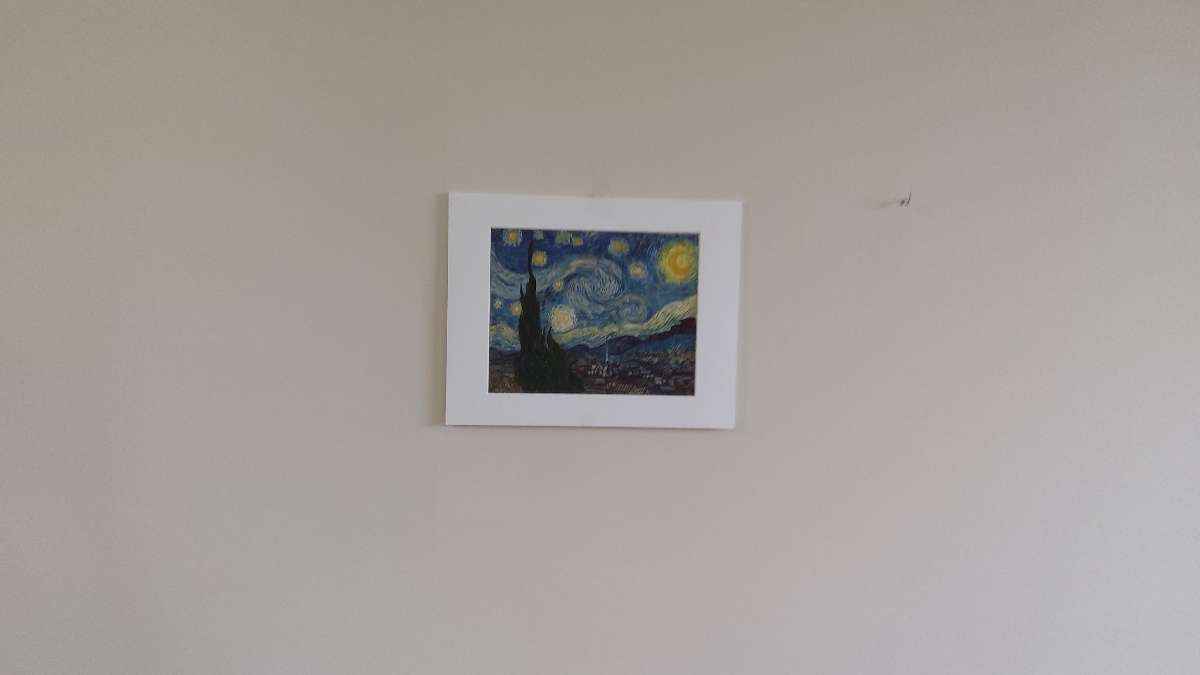painting: (479, 218, 706, 407)
